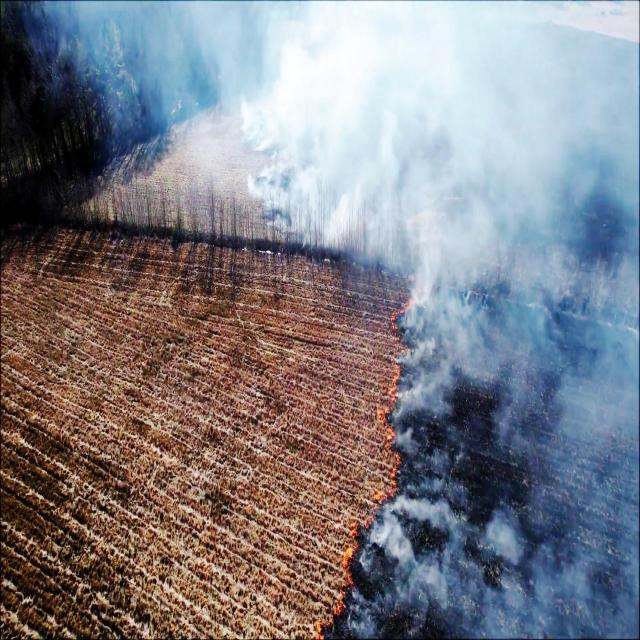Smoke: (245, 0, 640, 270), (398, 278, 468, 456), (366, 494, 468, 608)
